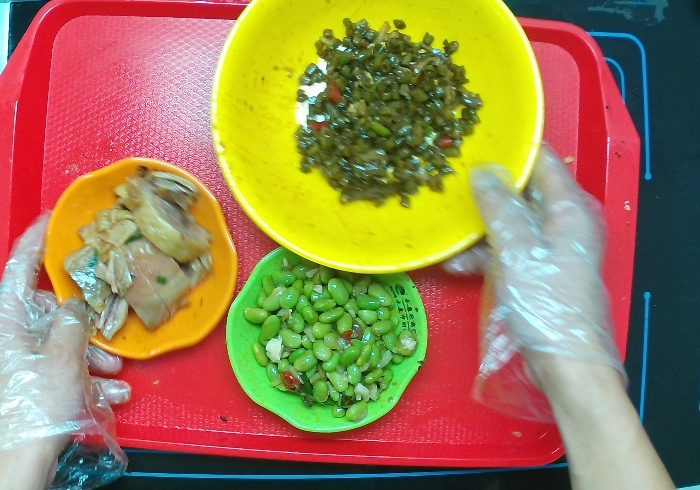YKMZ-Huang_Se_Tang_Wan: (213, 1, 551, 280)
YKMZ-Ju_Se_Ao_Bian_Wan: (41, 150, 237, 362)
YKMZ-Lv_Se_Ao_Bian_Wan: (230, 244, 430, 430)
